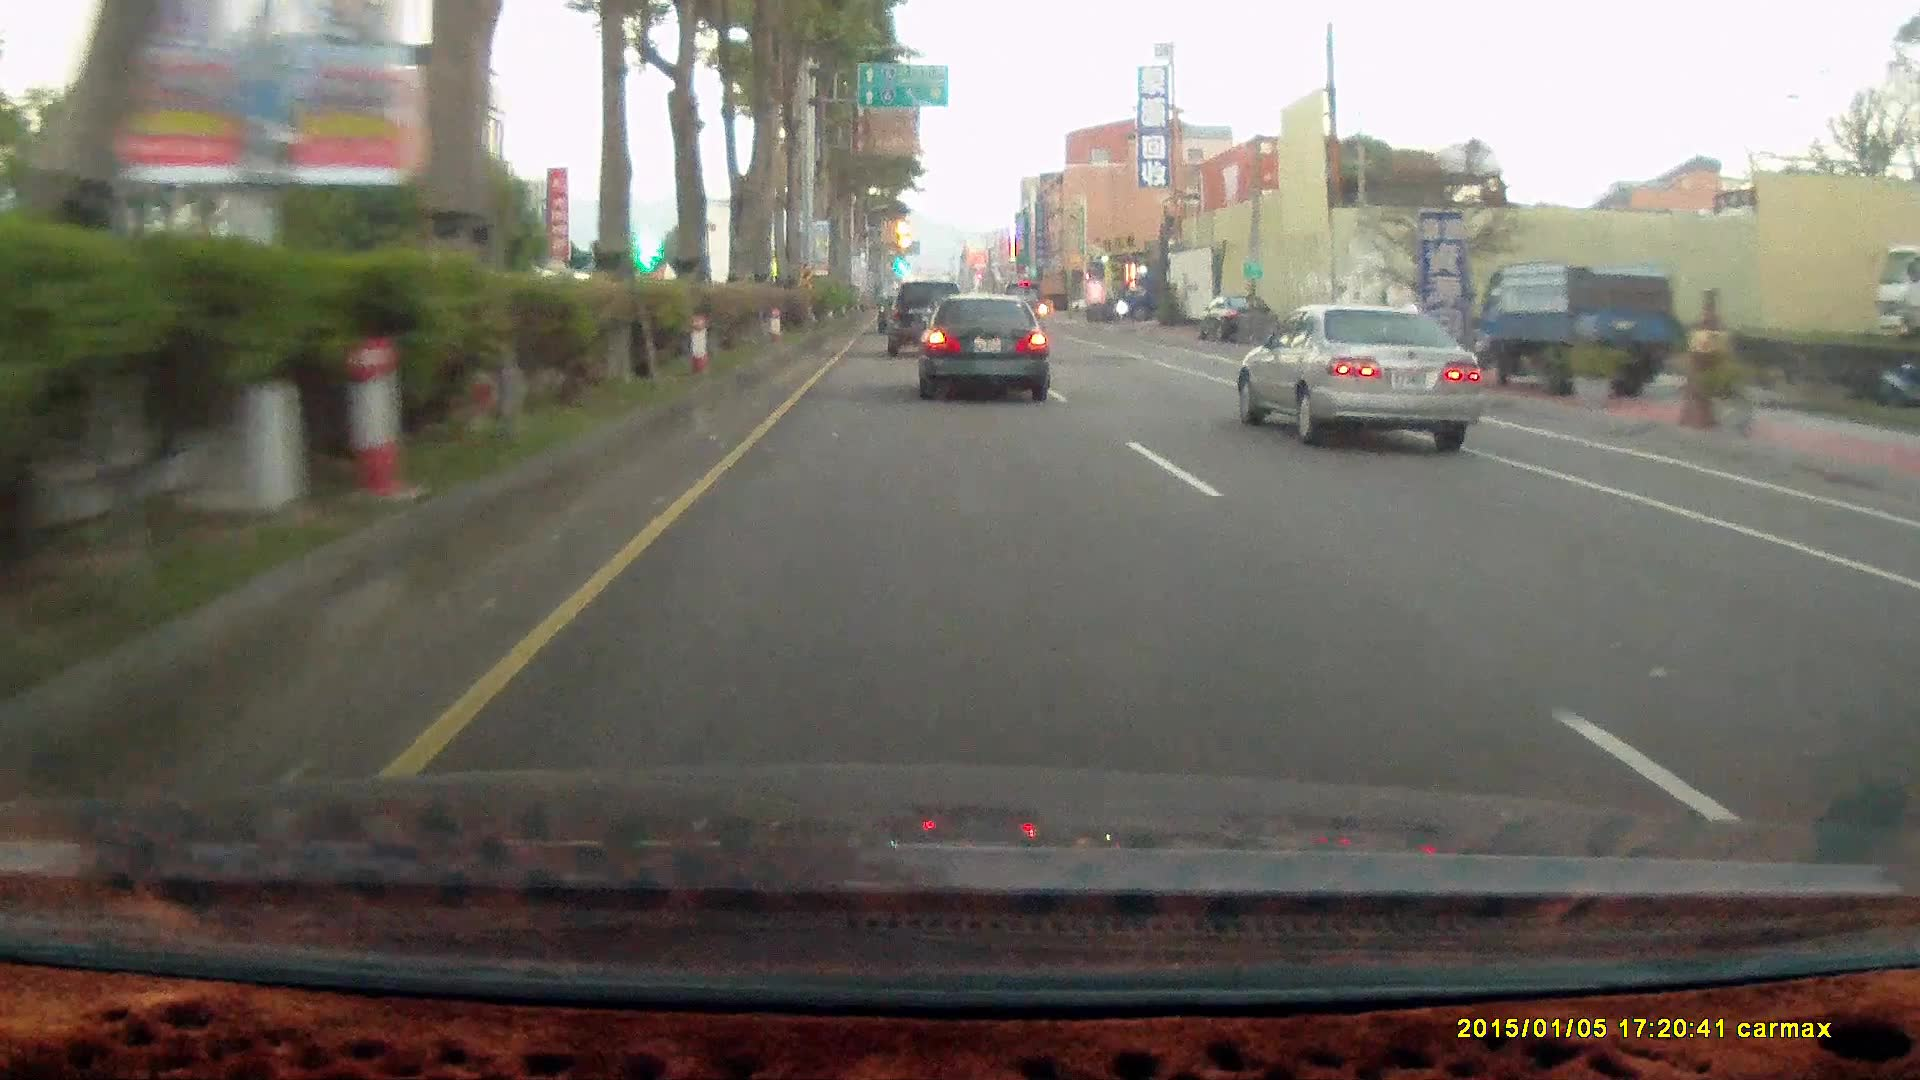vehicle: (1233, 301, 1494, 452), (1236, 301, 1484, 452), (1473, 257, 1676, 401), (1477, 262, 1675, 396), (914, 289, 1050, 397), (920, 294, 1054, 400), (885, 277, 967, 355), (1199, 293, 1280, 344), (1114, 277, 1185, 320)
